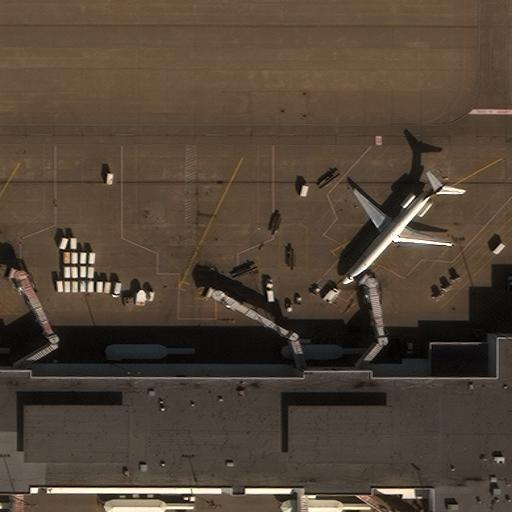Medium Civil Transport: (344, 183, 453, 285)
